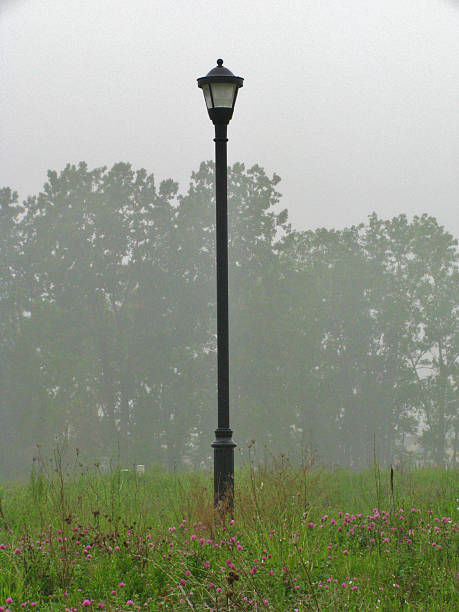light_pole: (208, 134, 239, 514)
